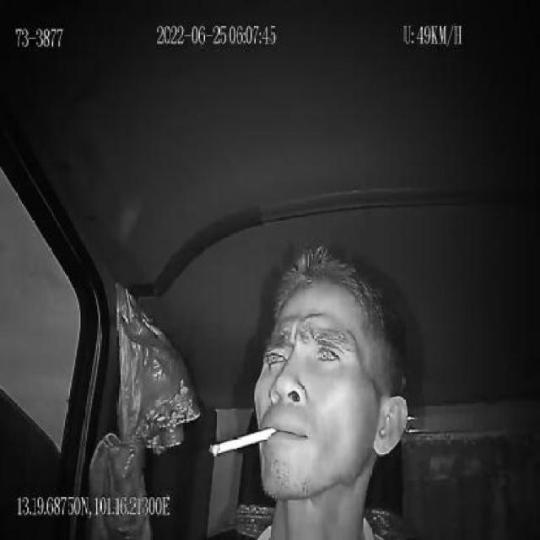smoking: (206, 424, 279, 455)
